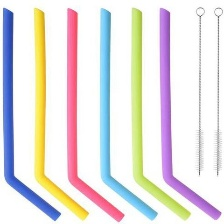drinking_straw: (154, 4, 224, 223), (124, 5, 193, 222), (29, 3, 94, 224), (95, 5, 159, 223), (0, 4, 63, 223), (63, 4, 125, 223)
